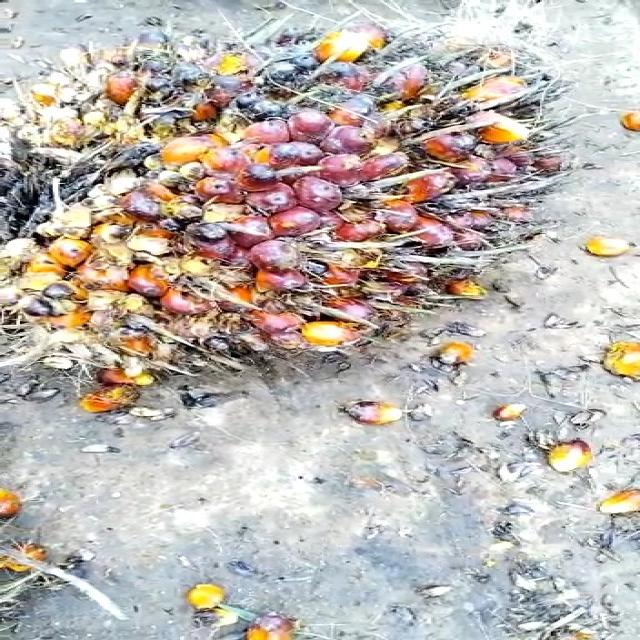palm oil: (0, 29, 640, 395)
